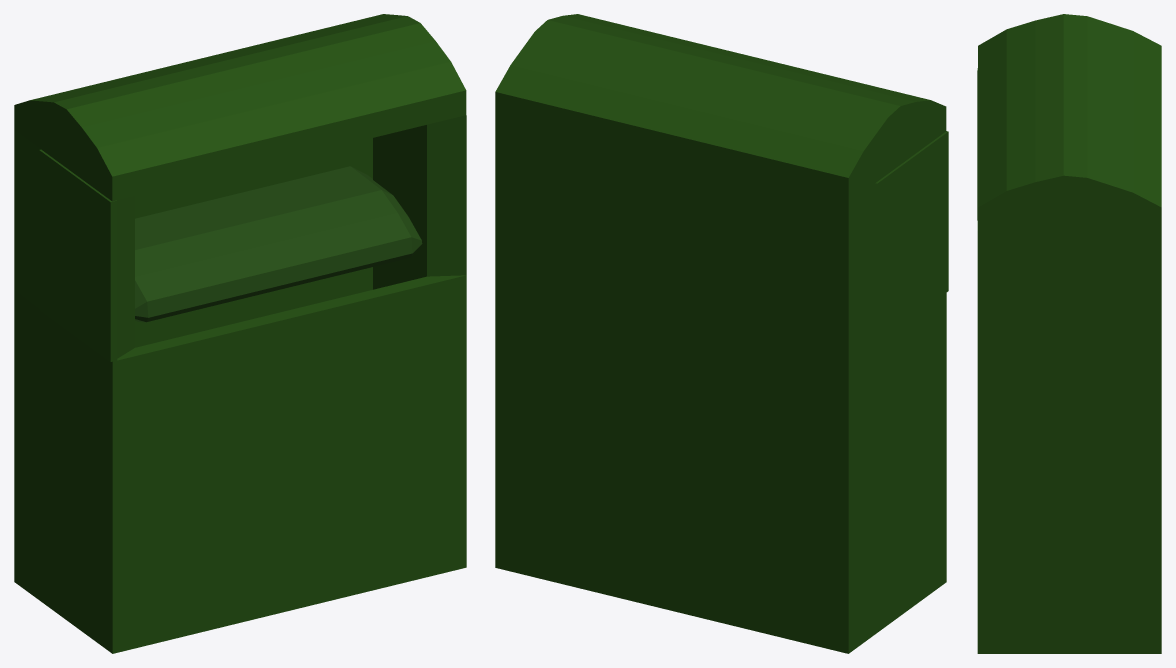
File: doner klær.fbx
The picture shows the model from 3 angles, left to right: view 1: azimuth 30°, elevation 25°; view 2: azimuth 150°, elevation 25°; view 3: azimuth 270°, elevation 25°; orthographic projection. The views are drawn at different scales.
Parts seen in each view (by area): view 1: Cube.004, Cube, Cube.002, Cube.001; view 2: Cube, Cube.002; view 3: Cube.003, Cube.
Boxes of the visible parts, x1=… form: Cube.004: x1=112, y1=275, x2=466, y2=653; Cube: x1=14, y1=14, x2=466, y2=361; Cube.002: x1=14, y1=290, x2=112, y2=653; Cube.001: x1=135, y1=166, x2=422, y2=322; Cube: x1=495, y1=14, x2=948, y2=653; Cube.002: x1=848, y1=293, x2=946, y2=653; Cube.003: x1=977, y1=230, x2=1161, y2=653; Cube: x1=977, y1=14, x2=1161, y2=230.
Bounding box in the file's own units: 750 × 1029 × 359.
